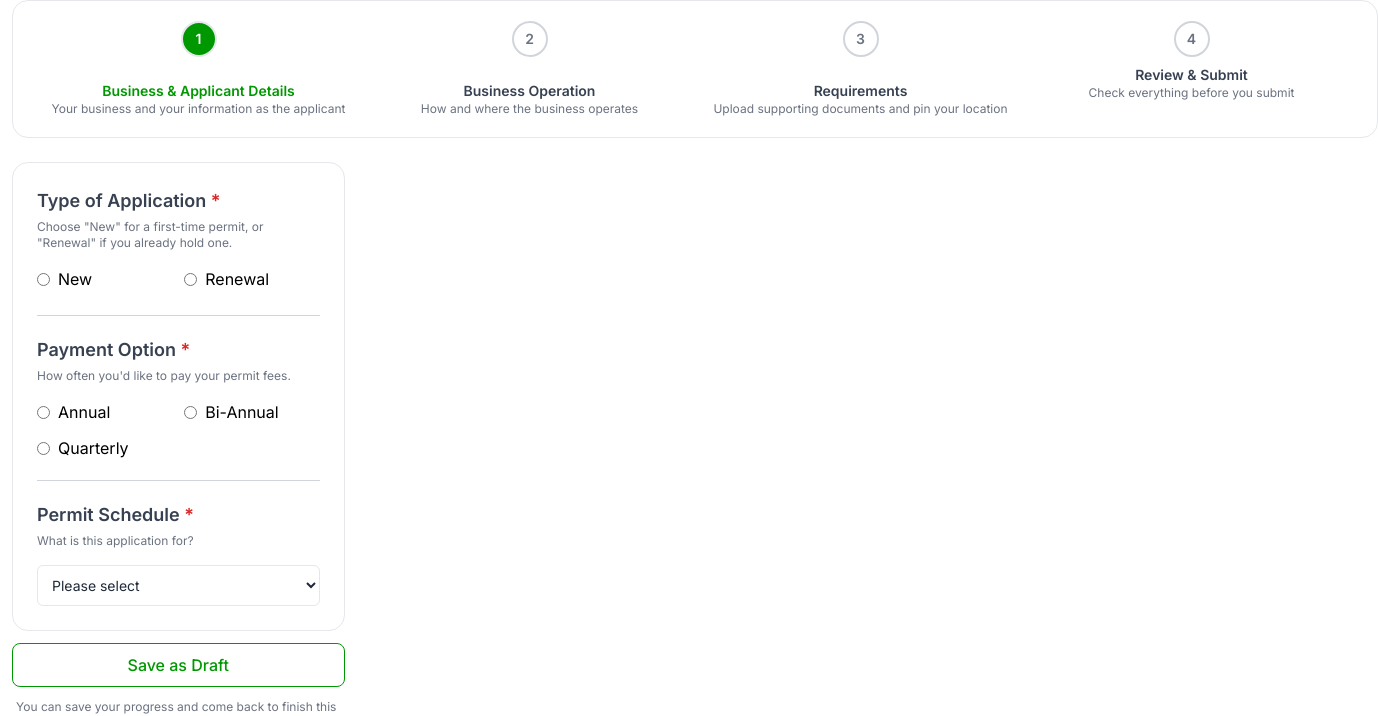
Scenario: ApplyPermitComponent › shows the "please specify" input as soon as Others is selected
Select "Others" in the dropdown: (178, 586) left=37, top=565, right=320, bottom=606
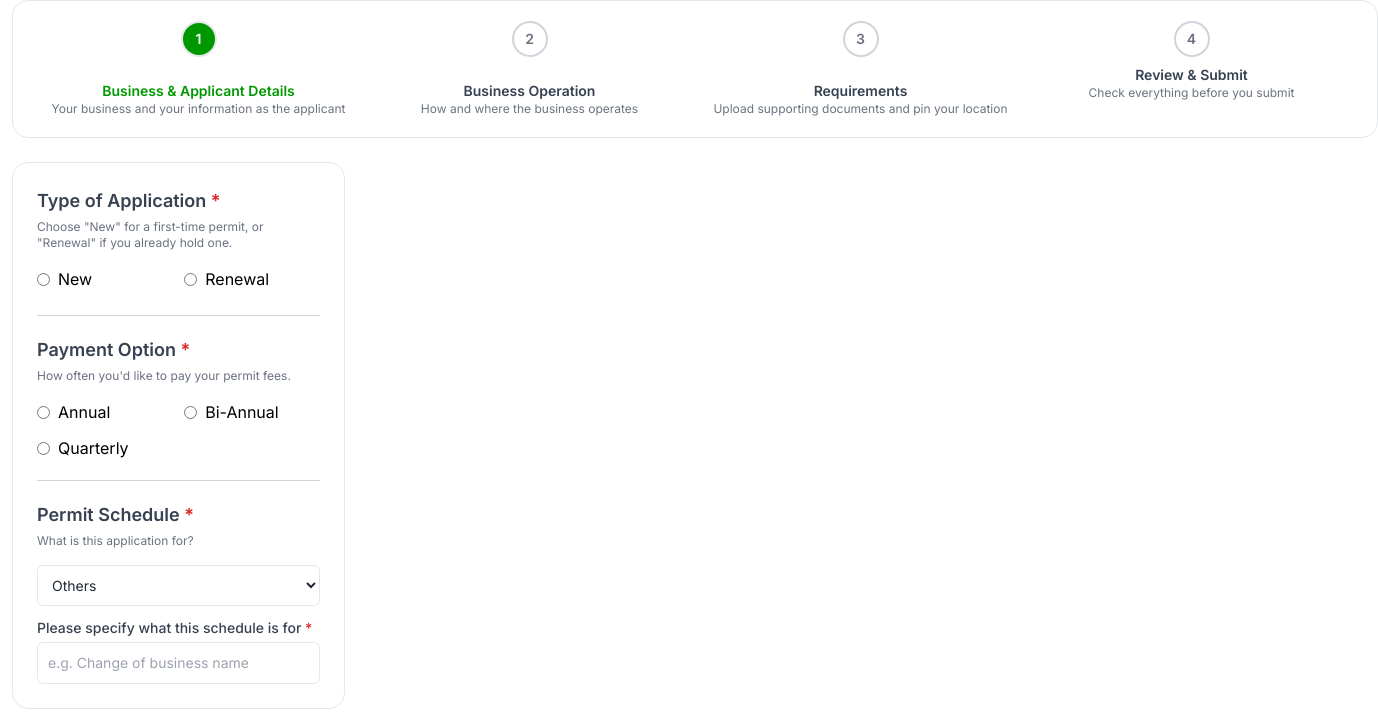
Check: the field labelled "Please specify what this schedule is for *" is shown, box left=37, top=642, right=320, bottom=684
